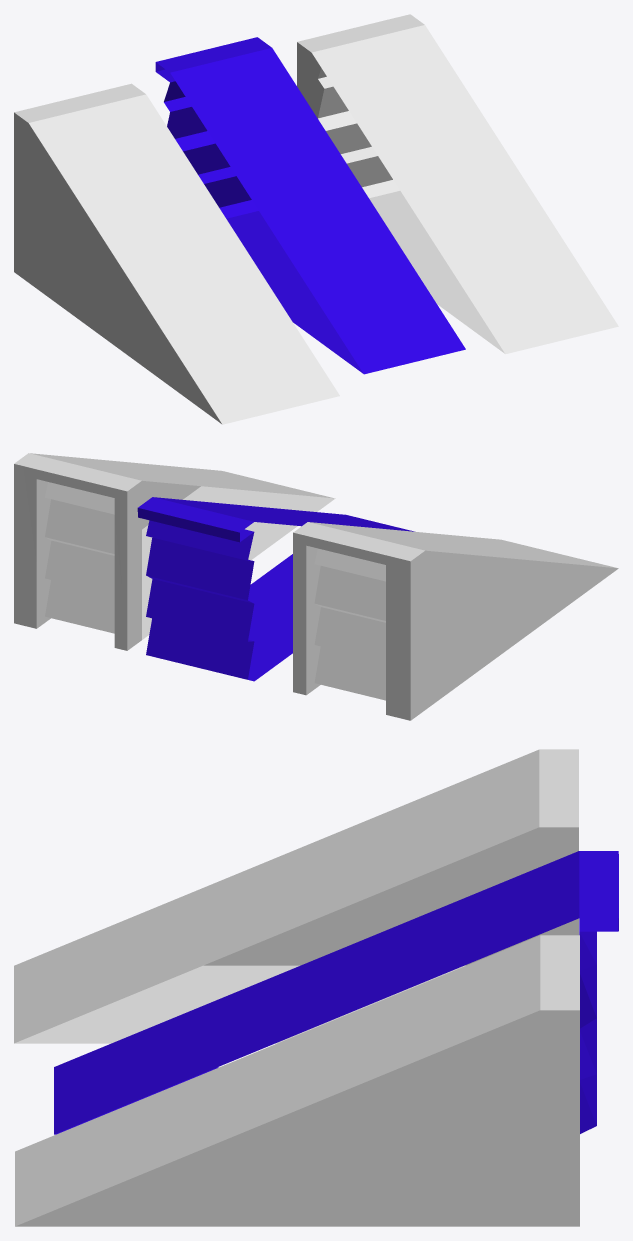
Rendered from dak.fbx.
The picture shows the model from 3 angles, top to bottom: view 1: azimuth 30°, elevation 25°; view 2: azimuth 150°, elevation 25°; view 3: azimuth 270°, elevation 25°; orthographic projection. The views are drawn at different scales.
Parts seen in each view (by area): view 1: Cube.004, Cube.003, Cube.005; view 2: Cube.004, Cube.003, Cube.005; view 3: Cube.003, Cube.004, Cube.005.
Boxes of the visible parts, x1=… form: Cube.004: x1=14, y1=83, x2=339, y2=424; Cube.003: x1=297, y1=14, x2=618, y2=354; Cube.005: x1=155, y1=37, x2=465, y2=374; Cube.004: x1=293, y1=522, x2=618, y2=720; Cube.003: x1=14, y1=453, x2=335, y2=650; Cube.005: x1=137, y1=497, x2=414, y2=681; Cube.003: x1=15, y1=935, x2=579, y2=1226; Cube.004: x1=14, y1=749, x2=578, y2=1043; Cube.005: x1=54, y1=851, x2=618, y2=1134.
Size of the model in its own units: 363 by 141 by 354.
